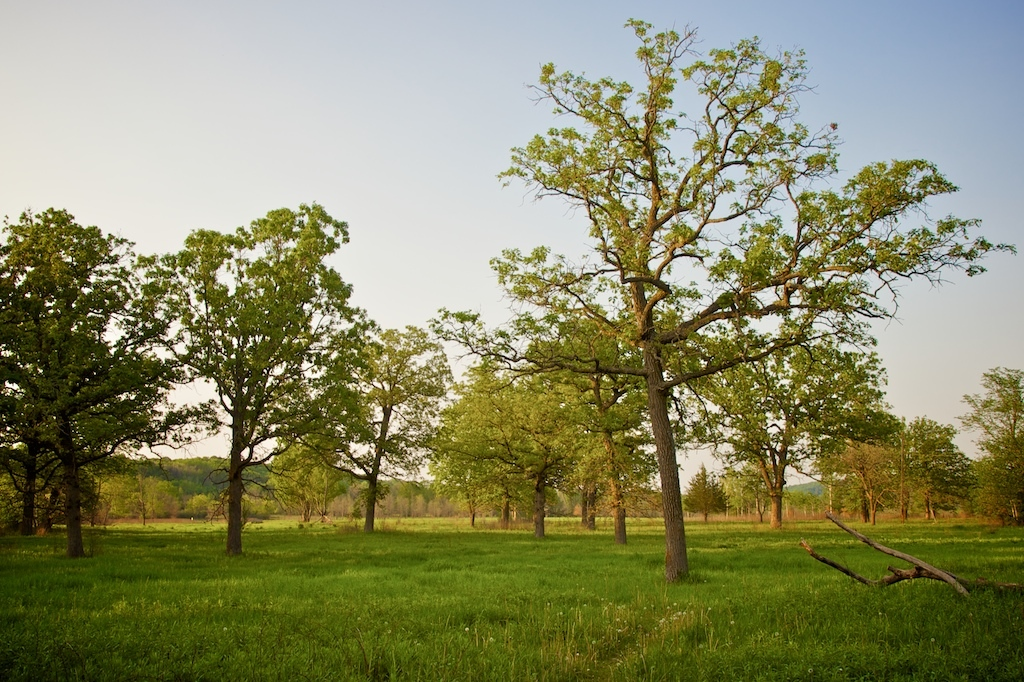tree: (426, 15, 1018, 584), (123, 200, 384, 557), (1, 205, 171, 558)
